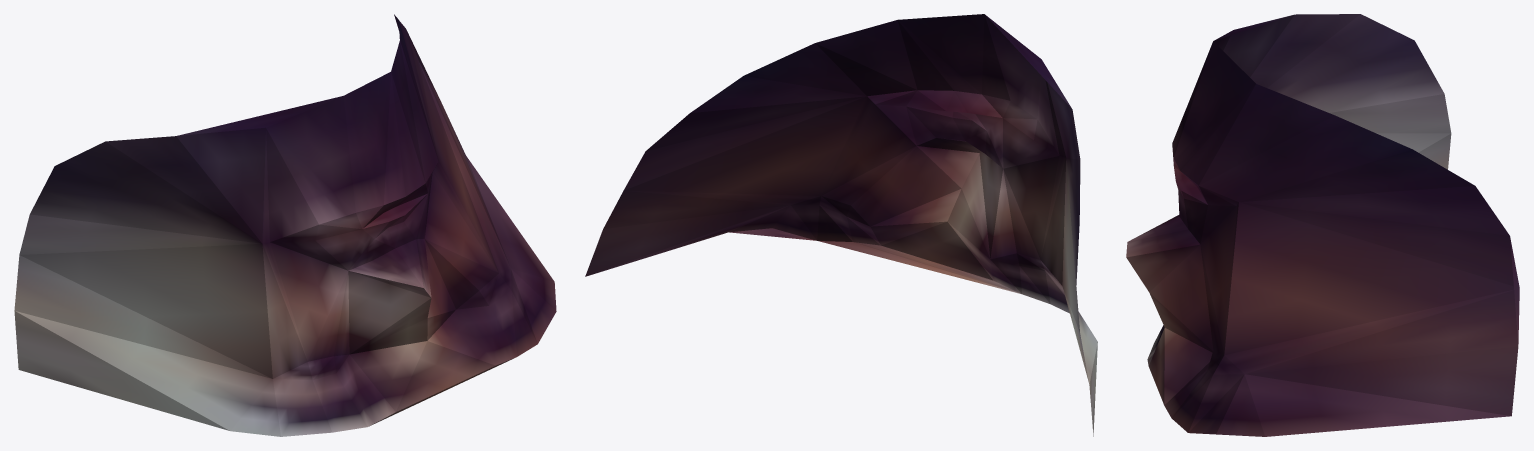
Rendered from real_14125.obj.
3 renders of one model, left to right at view 1: azimuth 30°, elevation 25°; view 2: azimuth 150°, elevation 25°; view 3: azimuth 270°, elevation 25°, orthographic. The views are drawn at different scales.
Bounding box in the file's own units: 135 × 82 × 90.81.
